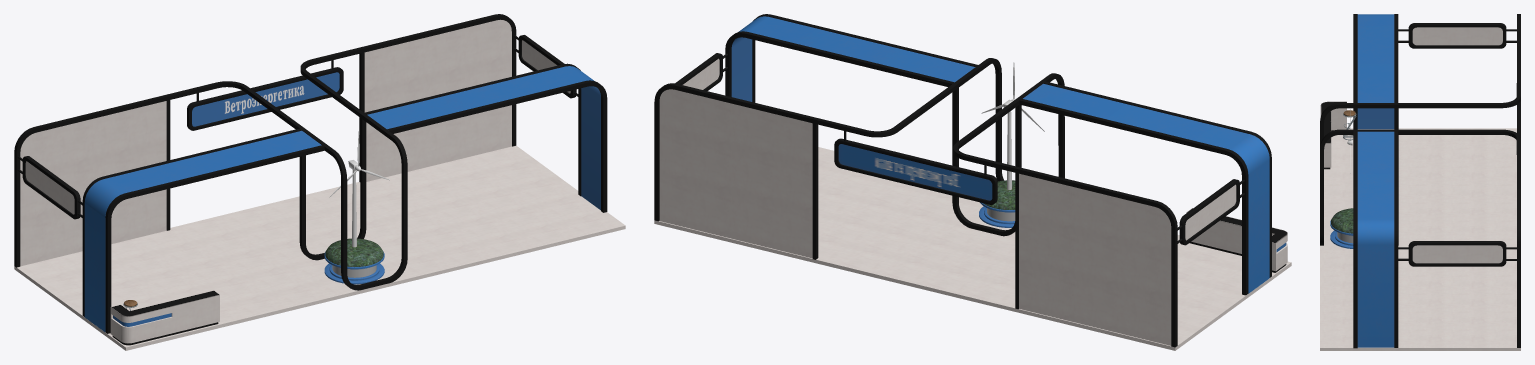
The model's file is vetroenergetika.glb.
The picture shows the model from 3 angles, left to right: view 1: azimuth 30°, elevation 25°; view 2: azimuth 150°, elevation 25°; view 3: azimuth 270°, elevation 25°; orthographic projection. The views are drawn at different scales.
Parts seen in each view (by area): view 1: Rectangle717; view 2: Rectangle717; view 3: Rectangle717, Color_low.
Part boxes in pixels (x1,y1,x2,y2): Rectangle717: [14, 14, 625, 350]; Rectangle717: [654, 14, 1291, 350]; Rectangle717: [1320, 14, 1520, 350]; Color_low: [1343, 110, 1356, 140].
Bounding box in the file's own units: 21.64 × 6.06 × 8.36.
1 material, 1 textured.
